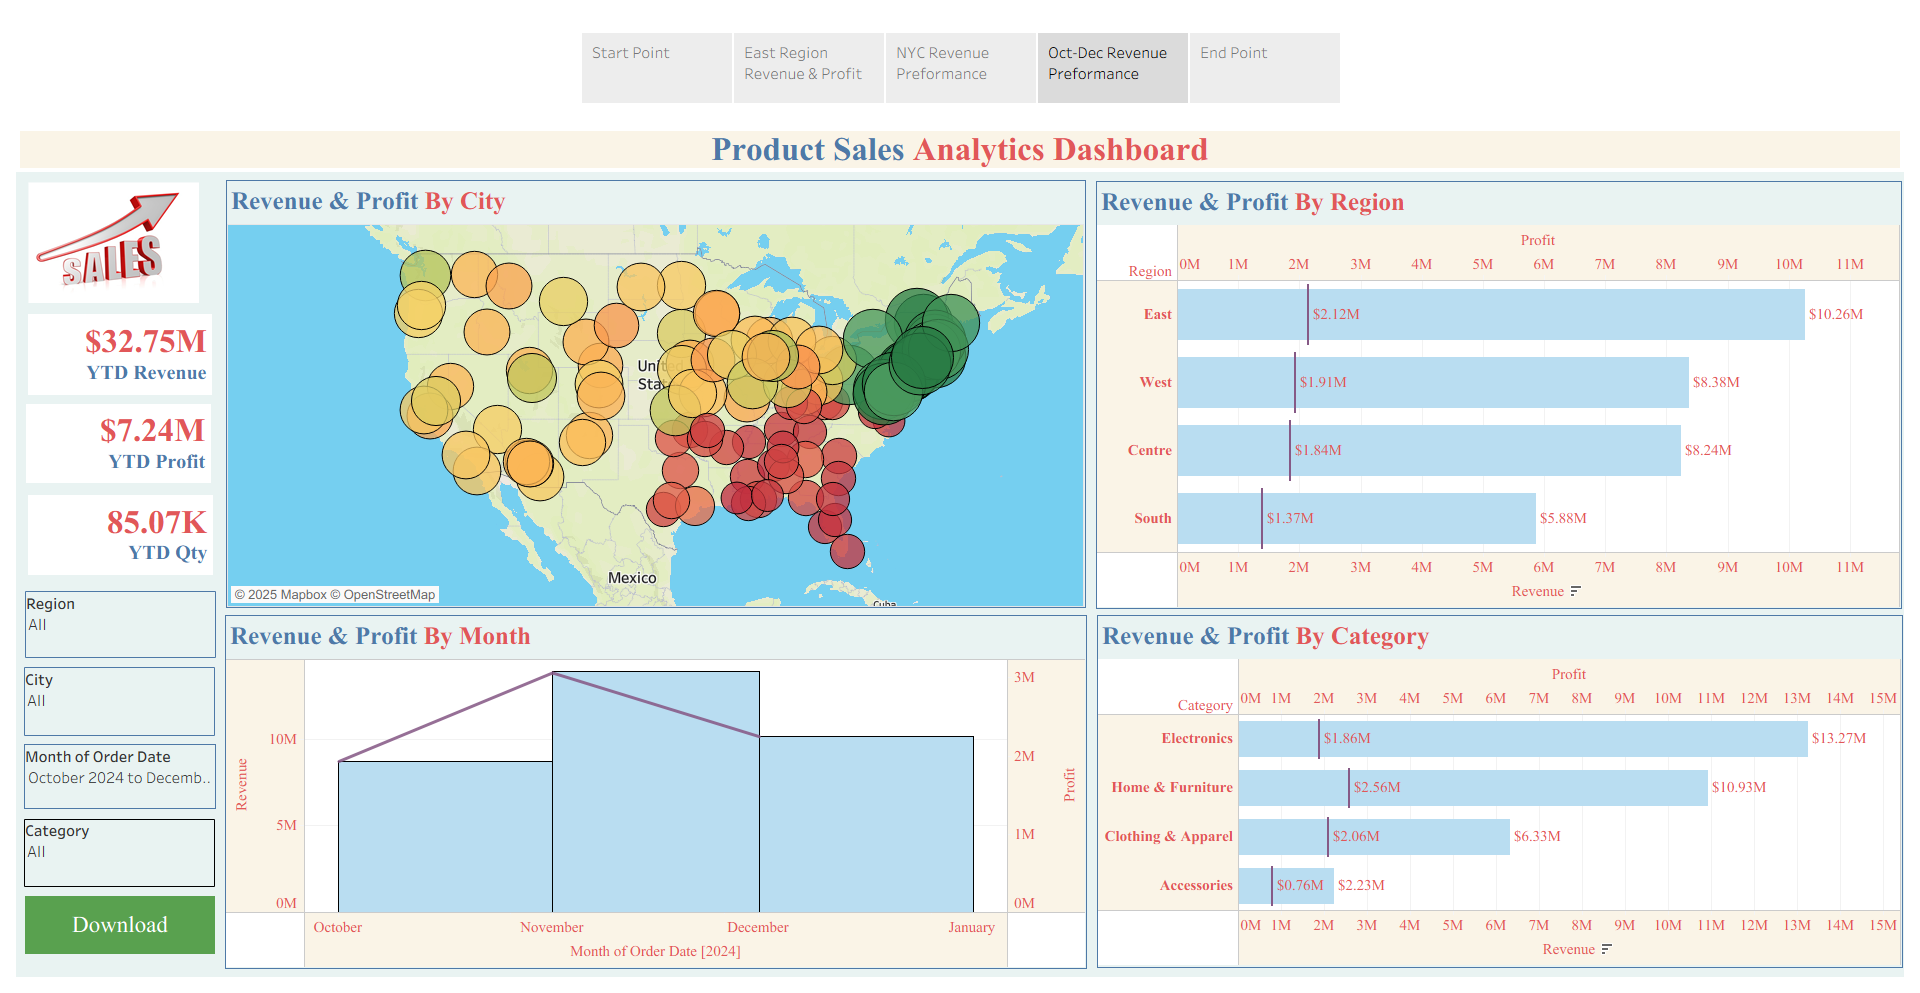

The dashboard page shown, as its layout file describes it:
{"tool":"tableau","page":{"name":"Dashboard","canvas":[1000,1000],"units":"permille","ordinal":0},"visuals":[{"type":"title","box":[4.8,10,990.3,56.2]},{"type":"worksheet","title":"City_Wise","mark":"Automatic","box":[114.7,69.9,451.4,494.4]},{"type":"worksheet","title":" Region_Wise","mark":"Automatic","rows":["Region"],"cols":["Revenue","Profit"],"box":[571.5,71.2,423.1,494.4]},{"type":"image","param":"Image/sales.jpg","box":[10.3,72.4,96.6,139.8]},{"type":"worksheet","title":"Revenue_Card","mark":"Automatic","box":[10.3,224.7,96,92.4]},{"type":"worksheet","title":"Profit_Card","mark":"Automatic","box":[9.7,329.6,96.6,89.9]},{"type":"worksheet","title":"Qty_Card","mark":"Automatic","box":[10.3,434.5,96.6,91.1]},{"type":"filter","title":" Region_Wise","param":"[federated.161l2w40rhty5k10ykqs002c49i8].[none:Region:nk]","box":[9.1,545.6,100.2,77.4]},{"type":"worksheet","title":"Month_Wise","mark":"Bar","rows":["Revenue","Profit"],"cols":["Order_Date"],"box":[114.1,573,452.6,408.2]},{"type":"worksheet","title":"Category_Wise","mark":"GanttBar","rows":["Category"],"cols":["Revenue","Profit"],"box":[572.1,573,423.1,407]},{"type":"filter","title":"City_Wise","param":"[federated.161l2w40rhty5k10ykqs002c49i8].[none:City:nk]","box":[8.4,633,100.2,79.9]},{"type":"filter","title":"Month_Wise","param":"[federated.161l2w40rhty5k10ykqs002c49i8].[tmn:Order_Date:qk]","box":[8.4,721.6,100.8,74.9]},{"type":"filter","title":"Category_Wise","param":"[federated.161l2w40rhty5k10ykqs002c49i8].[none:Category:nk]","box":[8.4,807.7,100.2,78.7]},{"type":"dashboard-object","box":[9.1,897.6,99.6,66.2]}]}

Visuals, with their boxes on the dashboard's canvas, which has no fixed pixel size, in thousandths of its width and height (x1, y1, x2, y2). These are canvas units, not pixel positions in the 1920x993 screenshot, which may show the page scaled, cropped or inside an application window:
title: (5,10,995,66)
"City_Wise" worksheet: (115,70,566,564)
" Region_Wise" worksheet: (572,71,995,566)
image: (10,72,107,212)
"Revenue_Card" worksheet: (10,225,106,317)
"Profit_Card" worksheet: (10,330,106,420)
"Qty_Card" worksheet: (10,434,107,526)
" Region_Wise" filter: (9,546,109,623)
"Month_Wise" worksheet (Bar marks): (114,573,567,981)
"Category_Wise" worksheet (GanttBar marks): (572,573,995,980)
"City_Wise" filter: (8,633,109,713)
"Month_Wise" filter: (8,722,109,796)
"Category_Wise" filter: (8,808,109,886)
dashboard-object: (9,898,109,964)
